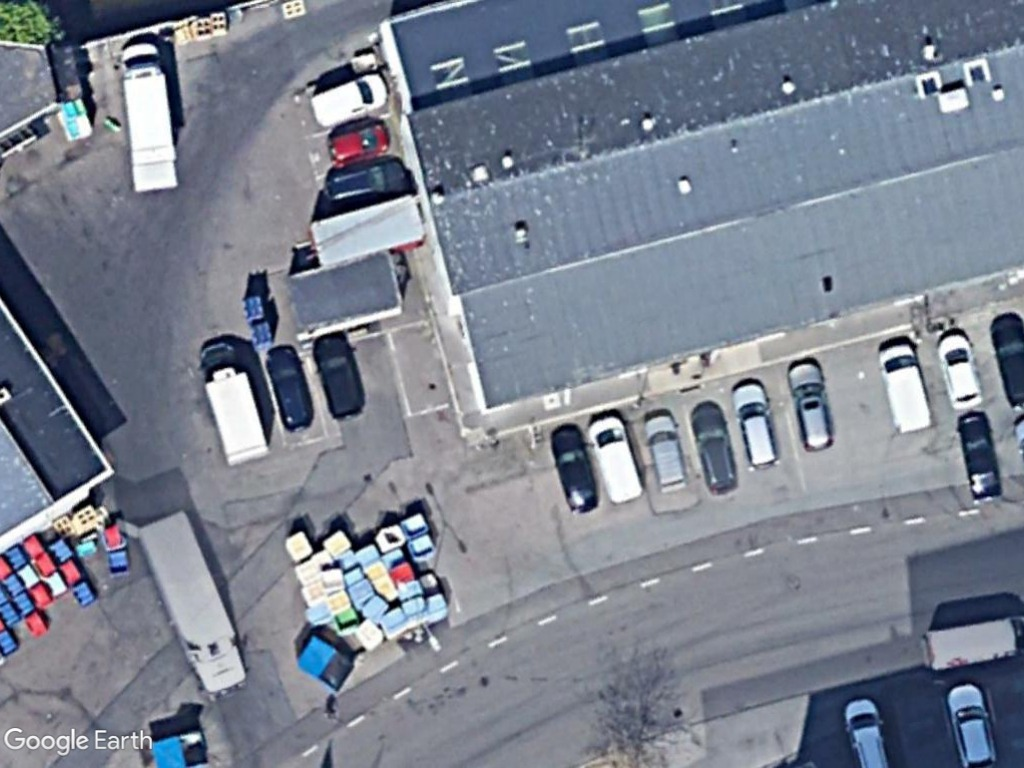car: (544, 419, 610, 520), (258, 339, 321, 439), (783, 355, 841, 459), (955, 402, 1009, 504), (945, 677, 1005, 768), (684, 394, 737, 497), (725, 375, 781, 472), (635, 405, 692, 498), (933, 326, 991, 412), (325, 117, 400, 169)
truck: (190, 335, 275, 471)
van: (111, 41, 189, 199), (874, 336, 942, 442), (304, 65, 397, 134), (583, 406, 646, 507)
